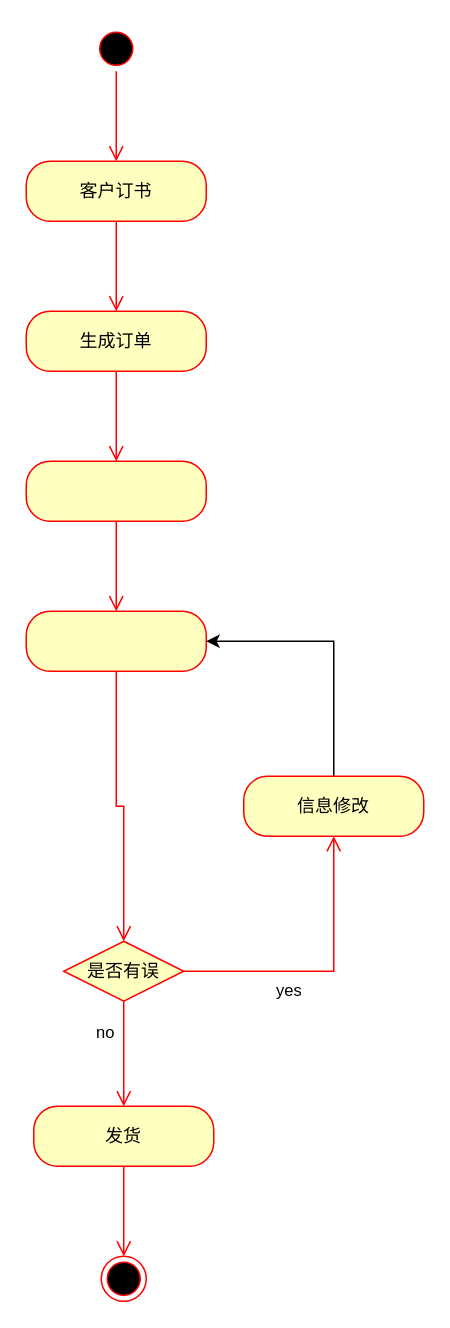
The diagram is 450 pixels wide and 1328 high, and some of its shapes have lost their labels. The shapes that lost their labels are listed below. From the top down, each one's box as (x1, y1, x2, y2) in pixels, then its label:
(25, 460, 206, 521): 客户支付完成
(25, 610, 206, 671): 客户信息确认
